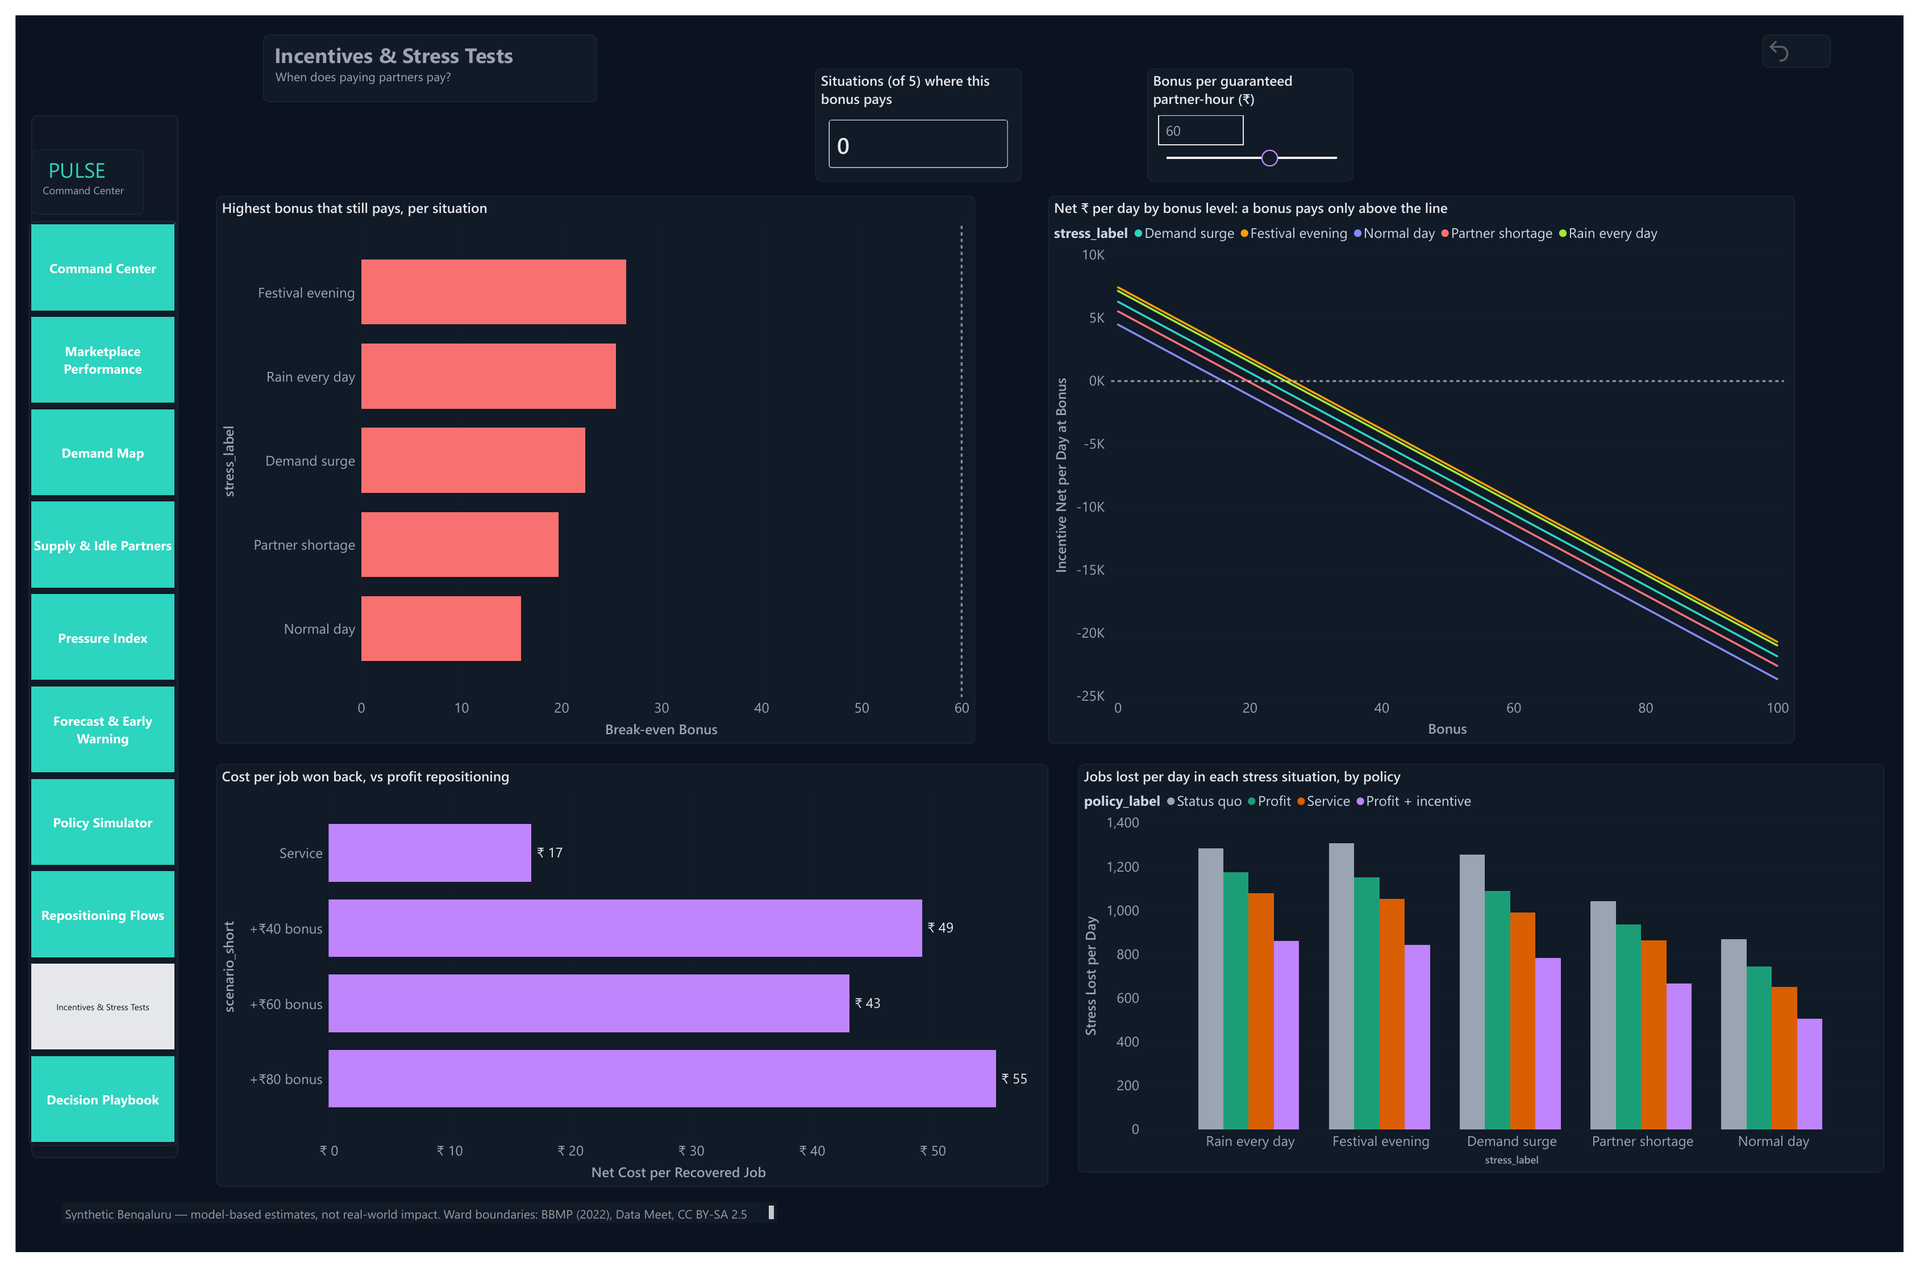

What the dashboard file says about the page in this screenshot:
{"tool":"powerbi","page":{"name":"Incentives & Stress Tests","canvas":[2900,1900],"ordinal":8},"visuals":[{"type":"shape","box":[23.6,153.2,226.9,1603],"z":0},{"type":"textbox","box":[23.6,206.3,173.9,100.2],"z":1000},{"type":"pageNavigator","box":[53,327.1,117.9,29.5],"z":2000},{"type":"textbox","box":[380.1,29.5,512.7,103.1],"z":3000},{"type":"textbox","box":[70.7,1824,1099.1,32.4],"z":4000},{"type":"slicer","title":"Bonus per guaranteed partner-hour (₹)","fields":{"Values":["Bonus.Bonus"]},"box":[1737.9,80.8,317.1,174.1],"z":5000},{"type":"cardVisual","title":"Situations (of 5) where this bonus pays","fields":{"Data":["_Measures.Stress Cases Paying at Bonus"]},"box":[1228,80.8,317.1,174.1],"z":6000},{"type":"clusteredBarChart","title":"Highest bonus that still pays, per situation","fields":{"Category":["Stress_Cases.stress_label"],"Y":["_Measures.Break-even Bonus"]},"box":[307.8,276.7,1165.8,842.5],"z":7000},{"type":"lineChart","title":"Net ₹ per day by bonus level: a bonus pays only above the line","fields":{"Category":["Bonus.Bonus"],"Y":["_Measures.Incentive Net per Day at Bonus"],"Series":["Stress_Cases.stress_label"]},"box":[1585.6,276.7,1147.2,842.5],"z":8000},{"type":"clusteredBarChart","title":"Cost per job won back, vs profit repositioning","fields":{"Category":["Dim_Scenario.scenario_short"],"Y":["_Measures.Net Cost per Recovered Job"]},"box":[307.8,1150.3,1277.8,649.8],"z":9000},{"type":"clusteredColumnChart","title":"Jobs lost per day in each stress situation, by policy","fields":{"Y":["_Measures.Stress Lost per Day"],"Category":["Stress_Summary.stress_label"],"Series":["Stress_Summary.policy_label"]},"box":[1632.2,1150.3,1237.4,628],"z":10000},{"type":"pageNavigator","box":[23.6,315.3,226.9,1420.3],"z":11000},{"type":"actionButton","box":[2683.3,28.7,105.2,51],"z":12000},{"type":"pageNavigator","box":[19.6,316.8,228.6,1420.6],"z":13000}]}

Visuals, with their boxes on the page's 2900x1900 design canvas (x1, y1, x2, y2). These are canvas units, not pixel positions in the 1920x1268 screenshot, which may show the page scaled, cropped or inside an application window:
shape: l=24, t=153, r=250, b=1756
textbox: l=24, t=206, r=198, b=306
pageNavigator: l=53, t=327, r=171, b=357
textbox: l=380, t=30, r=893, b=133
textbox: l=71, t=1824, r=1170, b=1856
"Bonus per guaranteed partner-hour (₹)" slicer: l=1738, t=81, r=2055, b=255
"Situations (of 5) where this bonus pays" cardVisual: l=1228, t=81, r=1545, b=255
"Highest bonus that still pays, per situation" clusteredBarChart: l=308, t=277, r=1474, b=1119
"Net ₹ per day by bonus level: a bonus pays only above the line" lineChart: l=1586, t=277, r=2733, b=1119
"Cost per job won back, vs profit repositioning" clusteredBarChart: l=308, t=1150, r=1586, b=1800
"Jobs lost per day in each stress situation, by policy" clusteredColumnChart: l=1632, t=1150, r=2870, b=1778
pageNavigator: l=24, t=315, r=250, b=1736
actionButton: l=2683, t=29, r=2788, b=80
pageNavigator: l=20, t=317, r=248, b=1737
